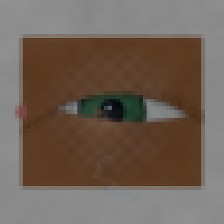foreign_body_visible: (93, 114, 122, 138)
